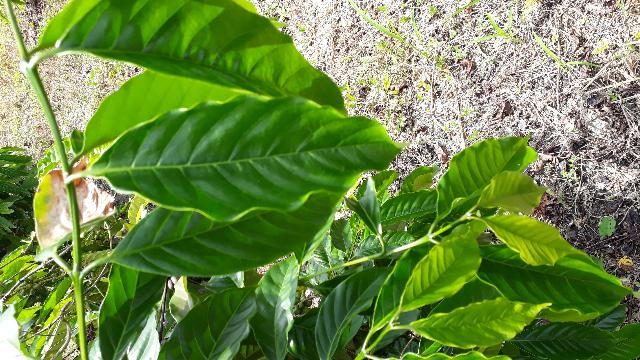healthy: (92, 95, 403, 221)
